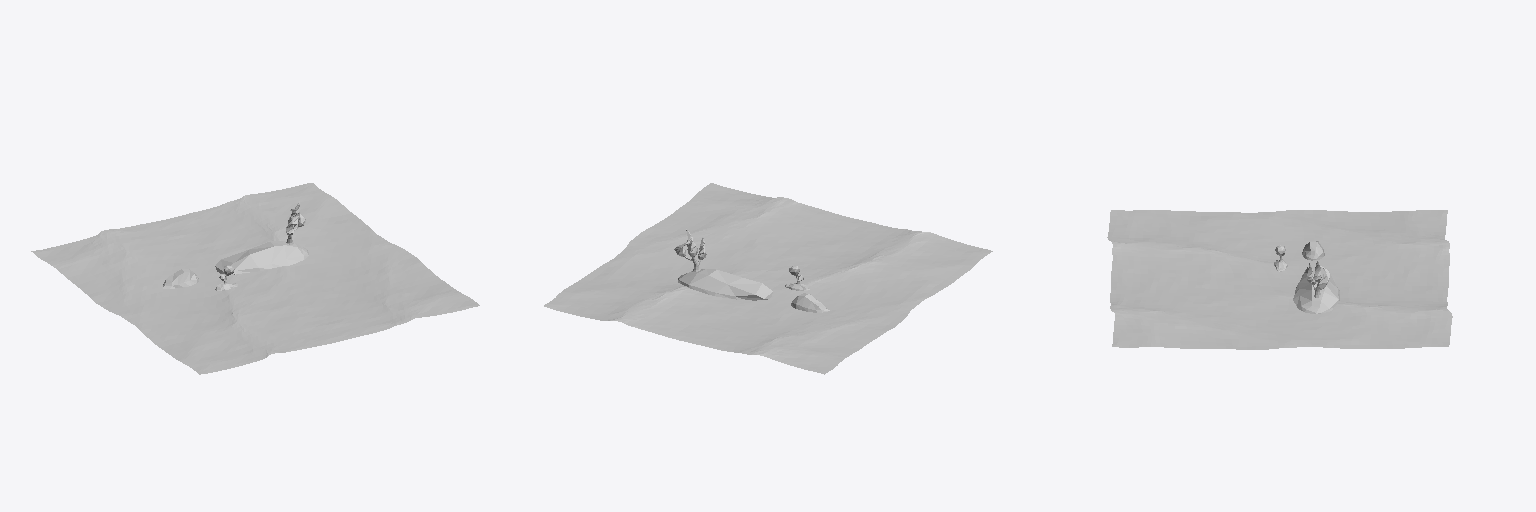
Rendered from island3.obj.
3 renders of one model, left to right at view 1: azimuth 30°, elevation 25°; view 2: azimuth 150°, elevation 25°; view 3: azimuth 270°, elevation 25°, orthographic.
Parts seen in each view (by area): view 1: 平面, Cube.057_Cube.3582; view 2: 平面, Cube.057_Cube.3582; view 3: 平面, Cube.057_Cube.3582.
Part boxes in pixels (left/top/right/bottom): 平面: left=31, top=183, right=479, bottom=374; Cube.057_Cube.3582: left=215, top=241, right=308, bottom=274; 平面: left=544, top=183, right=992, bottom=374; Cube.057_Cube.3582: left=678, top=269, right=772, bottom=300; 平面: left=1107, top=210, right=1452, bottom=349; Cube.057_Cube.3582: left=1293, top=267, right=1339, bottom=313.
Bounding box in the file's own units: 126 × 22.01 × 131.